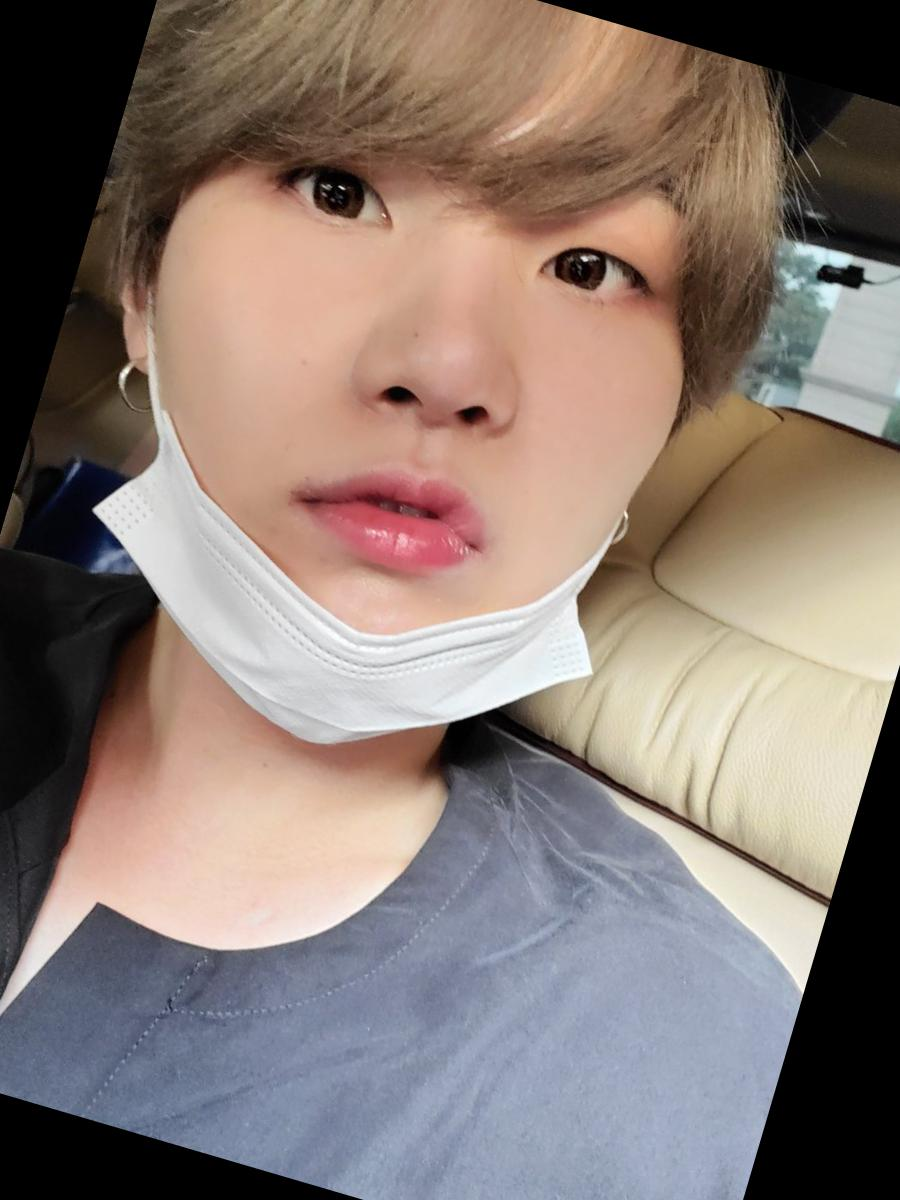mask_weared_incorrect: (104, 138, 722, 789)
